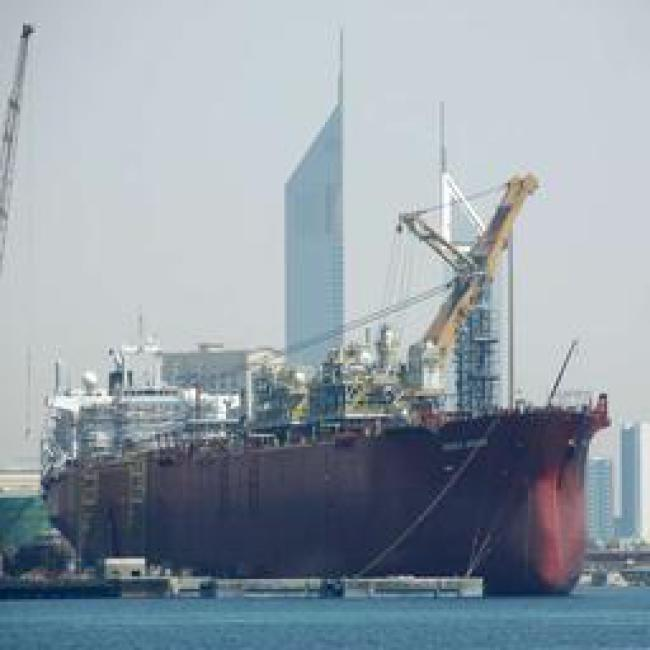Ship: (36, 331, 621, 581)
